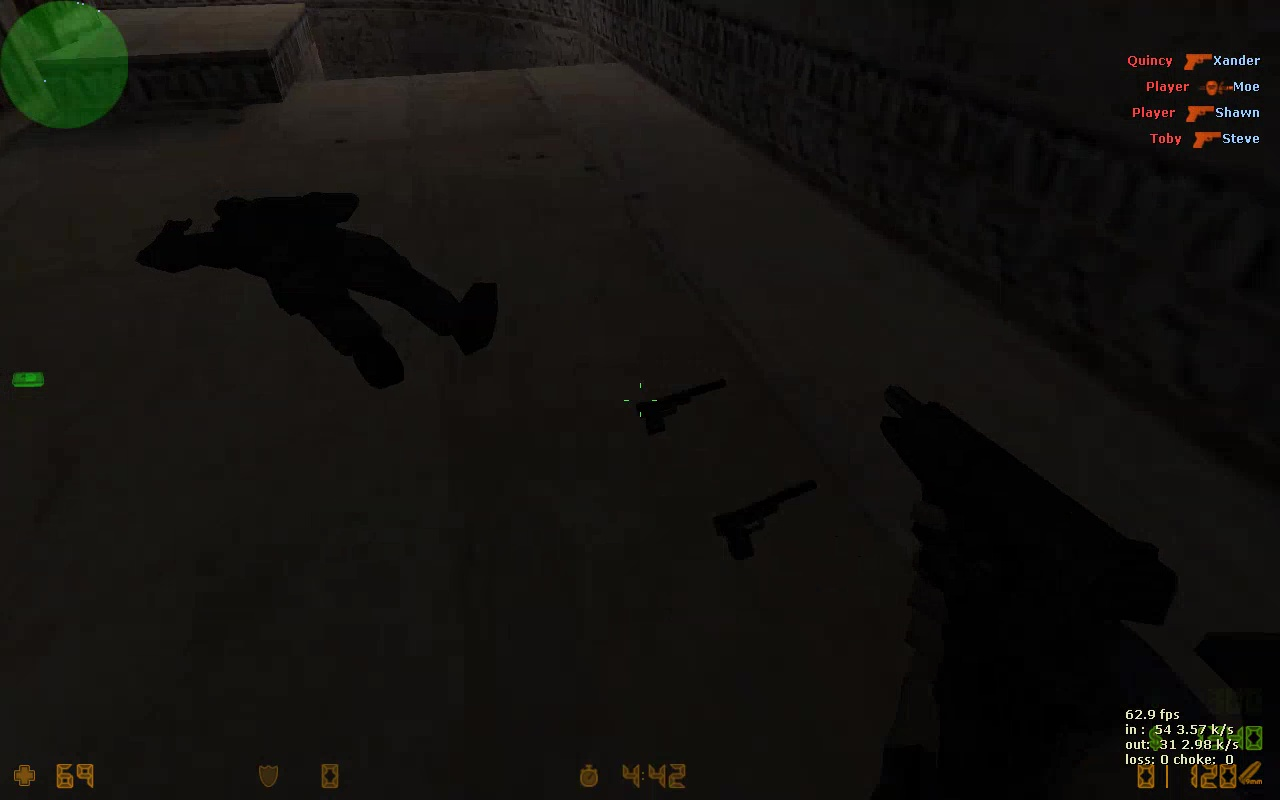dead: (135, 188, 503, 392)
